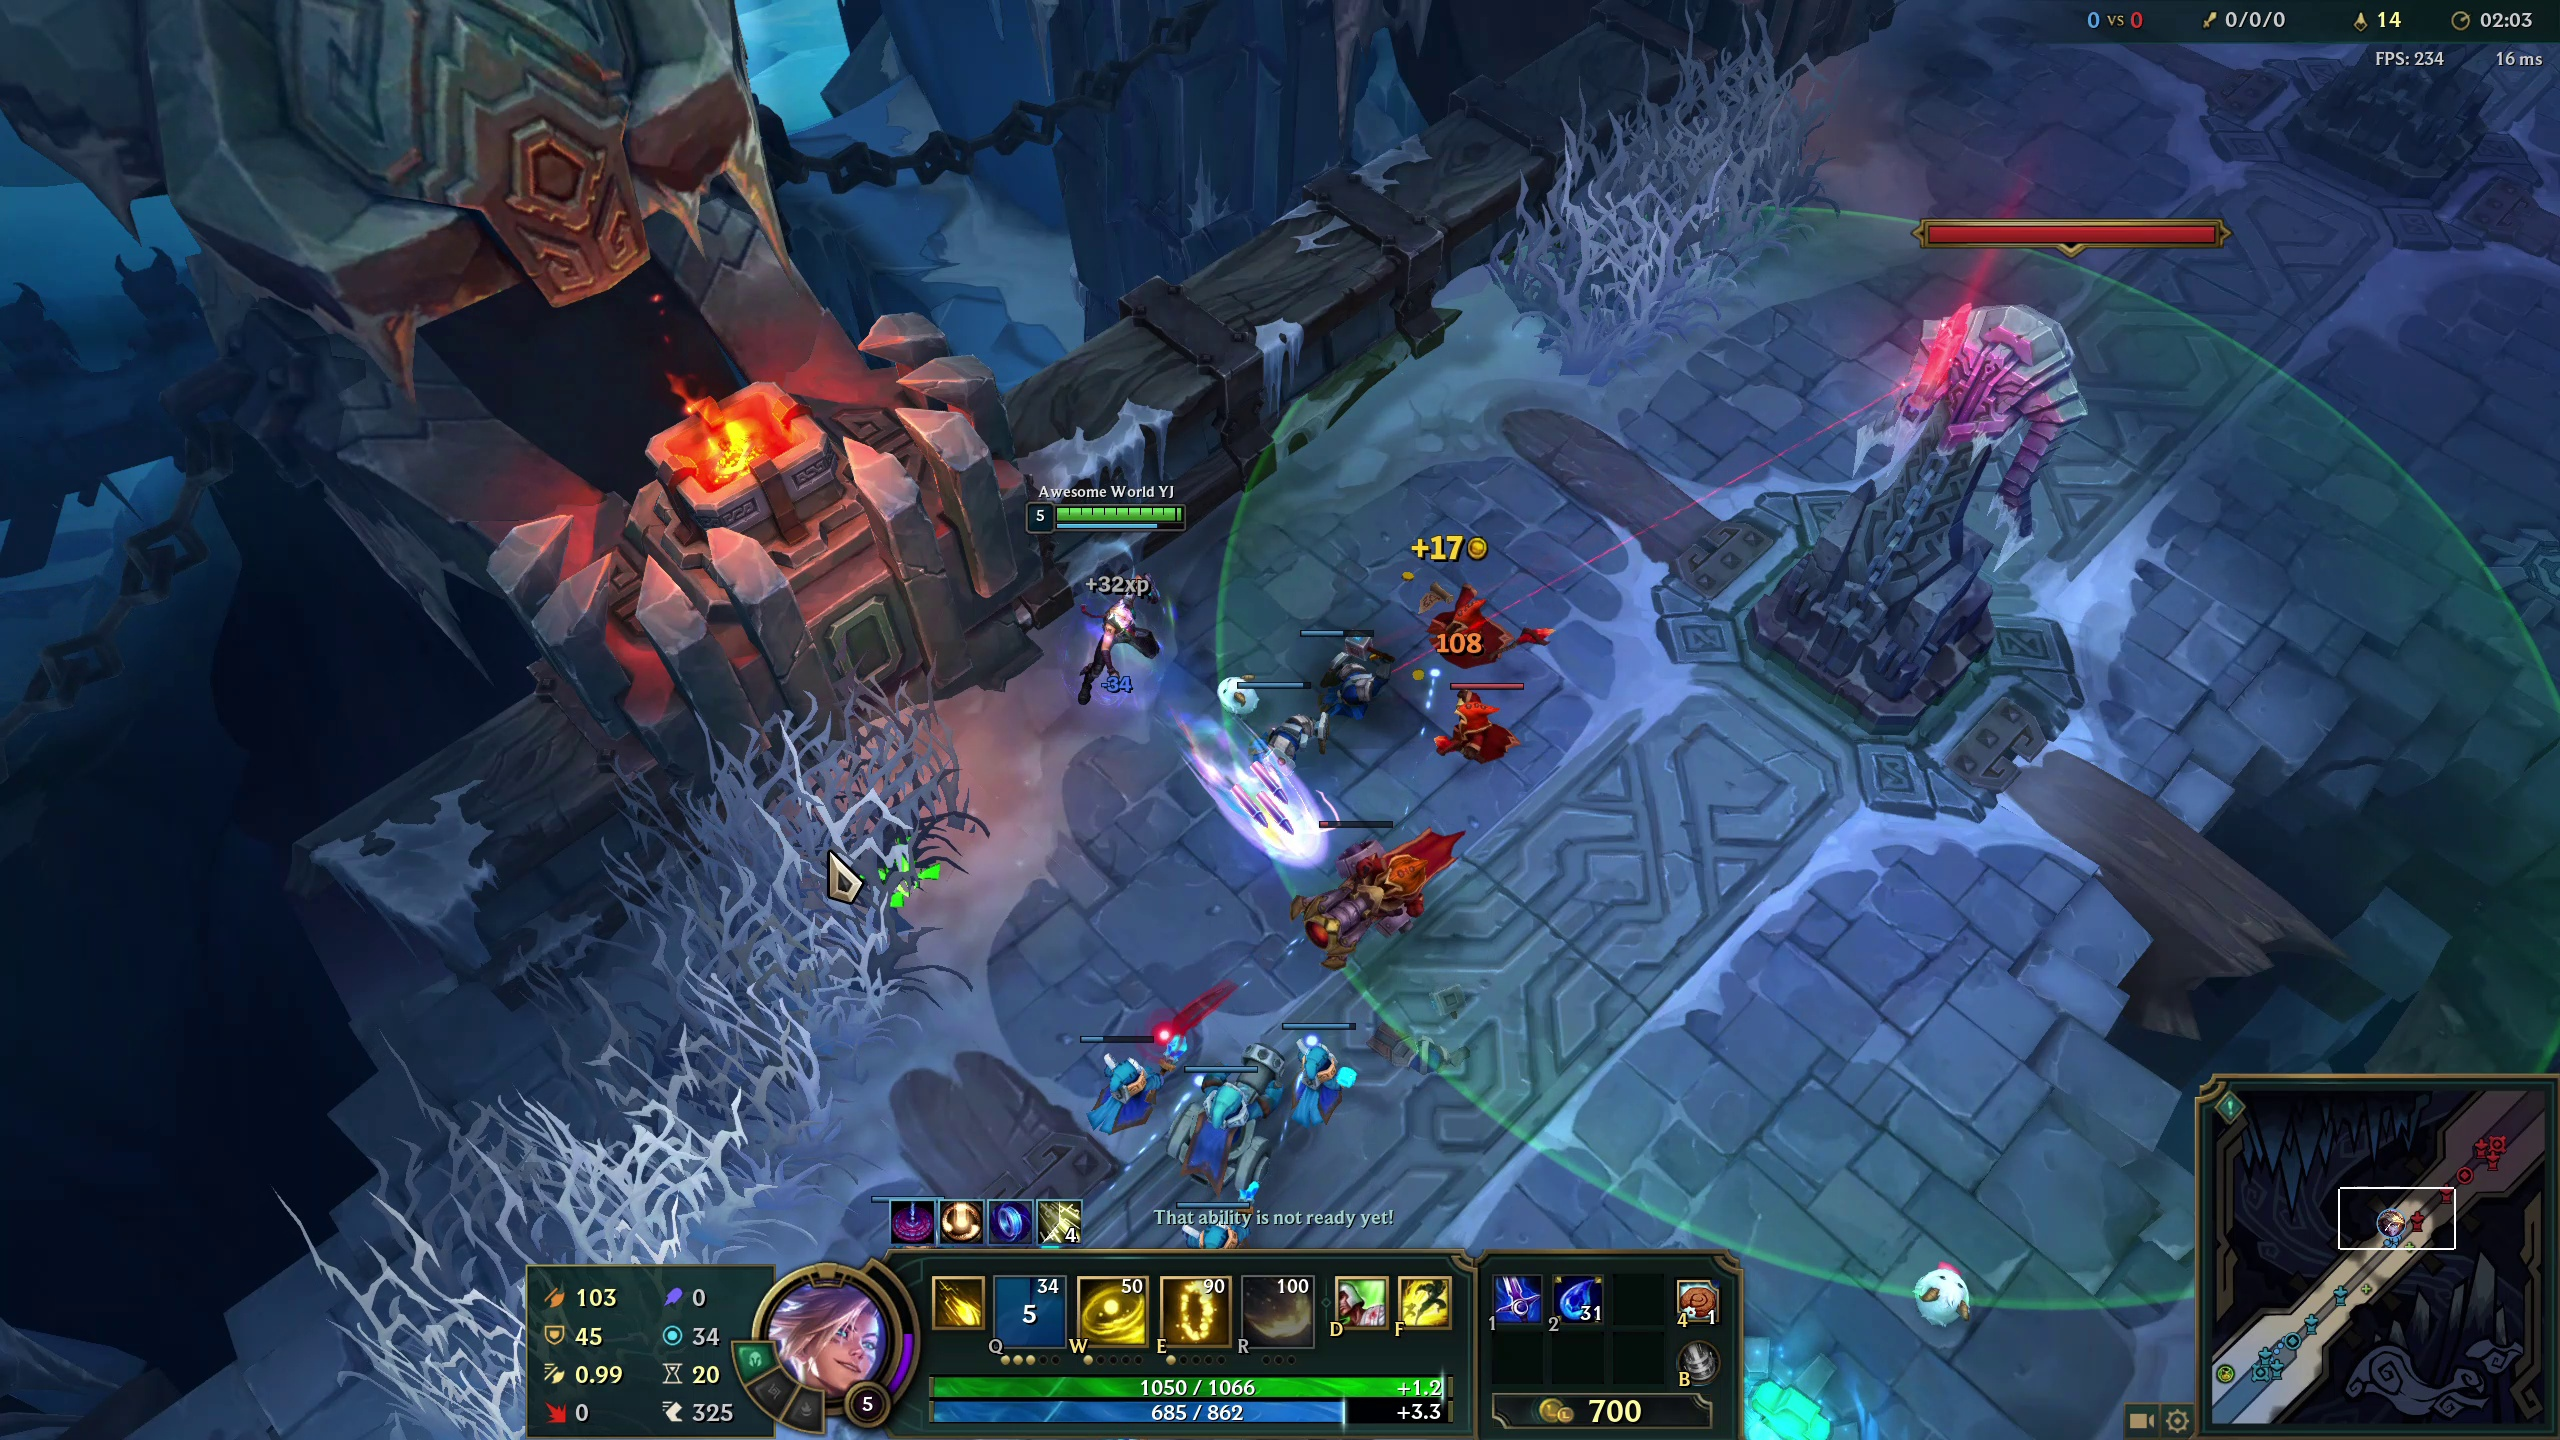EZ: (1030, 489, 1187, 716)
EnemyMinion: (1442, 675, 1538, 767)
EnemySuperMinnion: (1291, 809, 1440, 969)
Glass: (652, 726, 907, 981), (420, 1041, 675, 1294), (1531, 56, 1792, 264)
MyMinion: (1264, 1013, 1377, 1131), (1233, 673, 1343, 793), (1289, 601, 1400, 721), (1064, 1029, 1175, 1146), (1167, 1199, 1284, 1247)
MySuperMinnion: (1157, 1051, 1269, 1206)
Turret: (1799, 301, 2078, 737)
